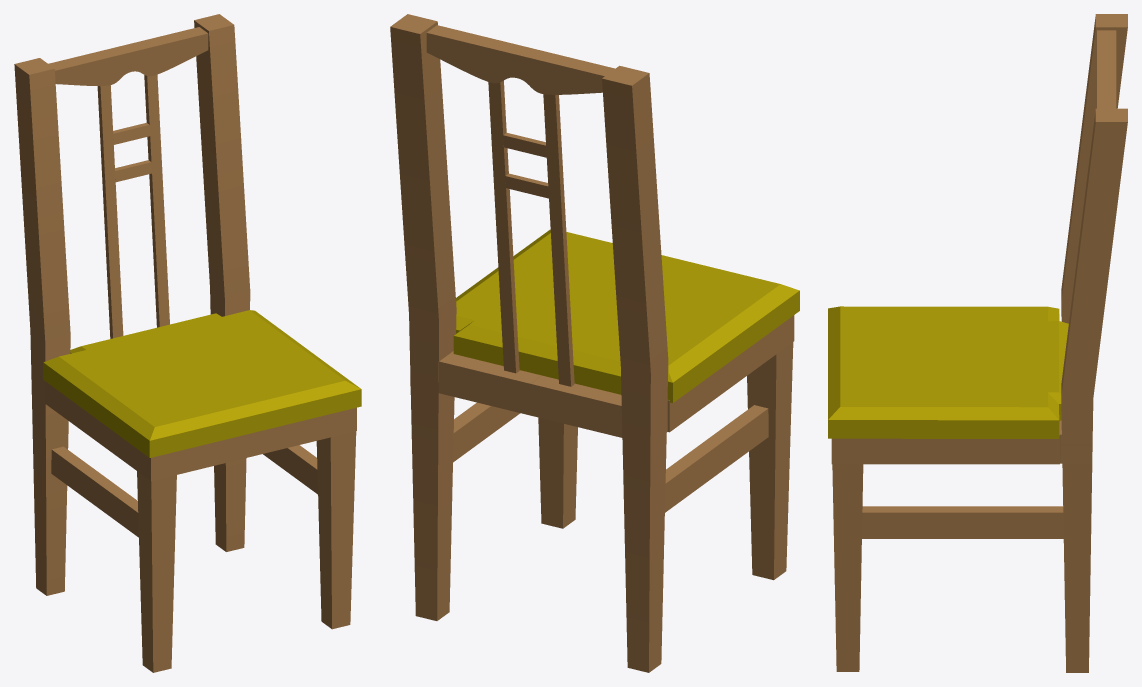
Rendered from chaiseJaune.obj.
The picture shows the model from 3 angles, left to right: view 1: azimuth 30°, elevation 25°; view 2: azimuth 150°, elevation 25°; view 3: azimuth 270°, elevation 25°; orthographic projection. The views are drawn at different scales.
Parts seen in each view (by area): view 1: CHAIRS_SKELETON, CHAIRS_SEAT; view 2: CHAIRS_SKELETON, CHAIRS_SEAT; view 3: CHAIRS_SKELETON, CHAIRS_SEAT.
Part boxes in pixels (left/top/right/bottom): CHAIRS_SKELETON: left=14, top=14, right=356, bottom=672; CHAIRS_SEAT: left=43, top=310, right=361, bottom=457; CHAIRS_SKELETON: left=390, top=14, right=794, bottom=672; CHAIRS_SEAT: left=453, top=229, right=799, bottom=402; CHAIRS_SKELETON: left=831, top=14, right=1127, bottom=672; CHAIRS_SEAT: left=828, top=306, right=1068, bottom=438.
Size of the model in its own units: 41.23 by 95 by 46.7.
